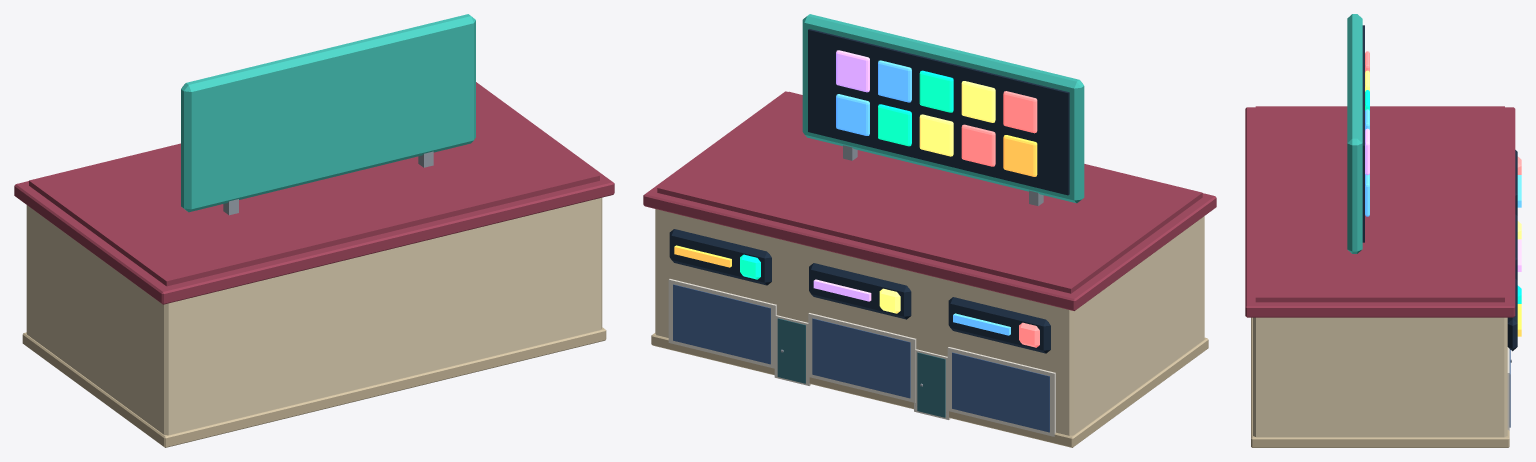
The model's file is bld_d7_d.glb.
3 renders of one model, left to right at view 1: azimuth 30°, elevation 25°; view 2: azimuth 150°, elevation 25°; view 3: azimuth 270°, elevation 25°, orthographic. The views are drawn at different scales.
Parts seen in each view (by area): view 1: bld_d7_d; view 2: bld_d7_d; view 3: bld_d7_d.
Boxes of the visible parts, bbox=[...] form: bld_d7_d: bbox=[14, 14, 614, 447]; bld_d7_d: bbox=[643, 14, 1216, 447]; bld_d7_d: bbox=[1245, 14, 1521, 447].
Bounding box in the file's own units: 18.6 × 11.97 × 10.85.
